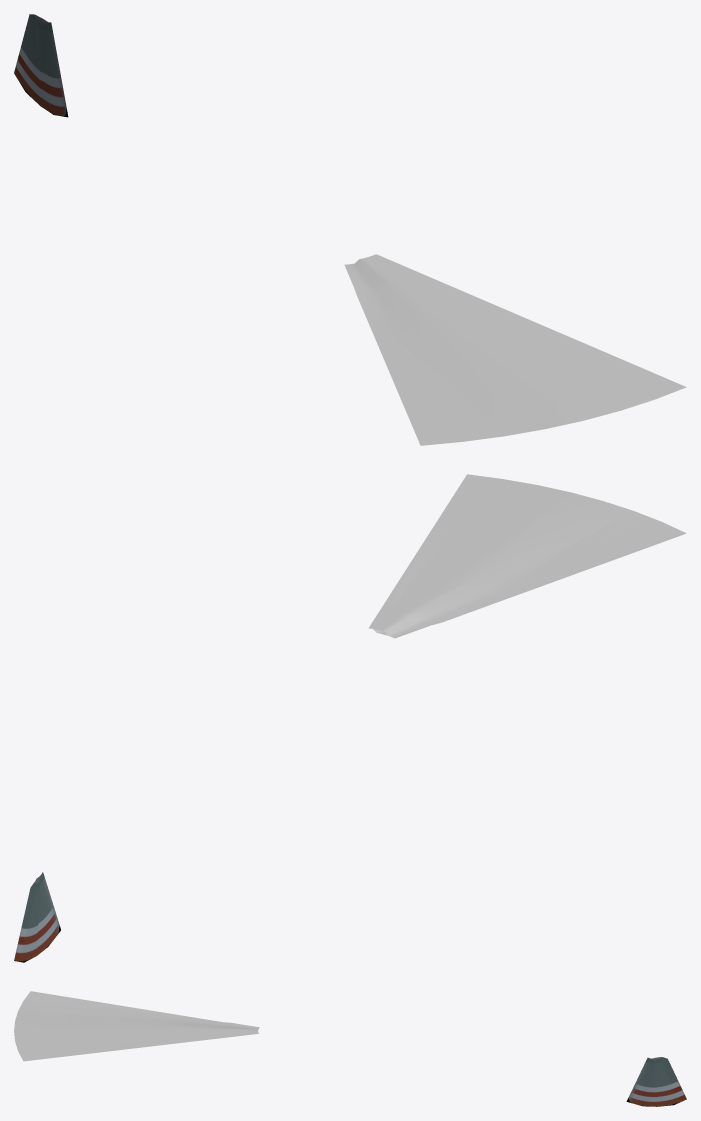
Rendered from 直8旋翼loop.fbx.
The picture shows the model from 3 angles, top to bottom: view 1: azimuth 30°, elevation 25°; view 2: azimuth 150°, elevation 25°; view 3: azimuth 270°, elevation 25°; orthographic projection. The views are drawn at different scales.
Parts seen in each view (by area): view 1: 对象448, 对象450; view 2: 对象448, 对象450; view 3: 对象448, 对象450.
Boxes of the visible parts, <box> form: 对象448: <box>344,254,686,445</box>; 对象450: <box>14,14,68,117</box>; 对象448: <box>369,474,686,638</box>; 对象450: <box>14,872,60,962</box>; 对象448: <box>14,991,259,1061</box>; 对象450: <box>626,1057,686,1106</box>.
Size of the model in its own units: 572 by 253 by 2312.
